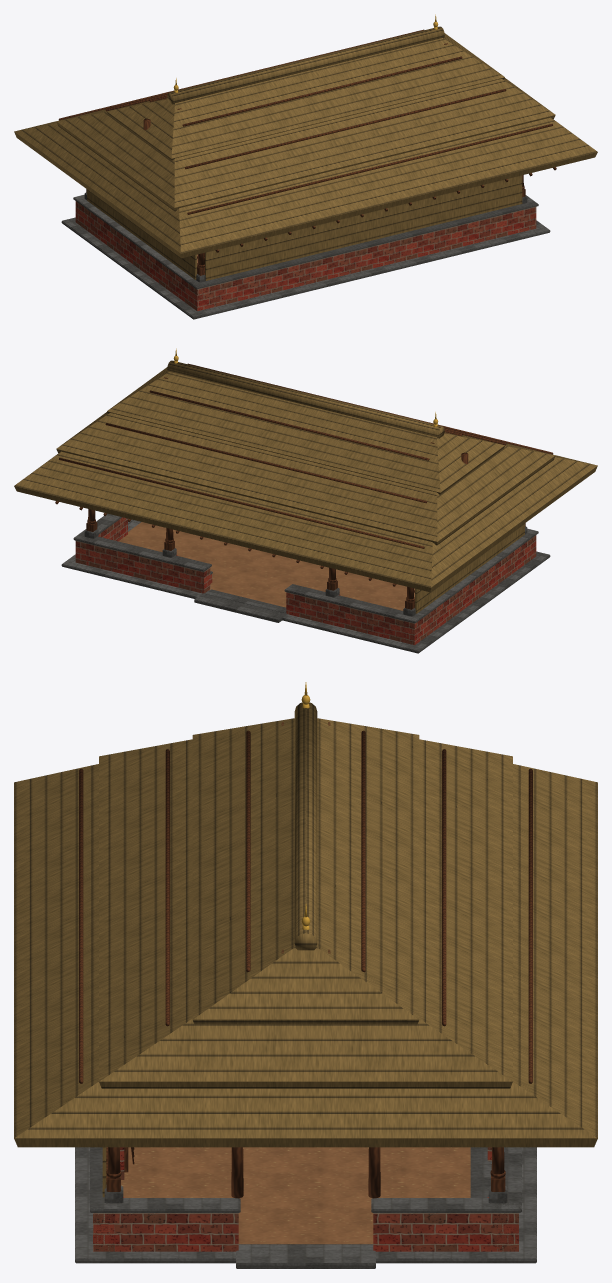
The model's file is kalari_arena.glb.
3 views of the same model, one above another, from view 1: azimuth 30°, elevation 25°; view 2: azimuth 150°, elevation 25°; view 3: azimuth 270°, elevation 25° (orthographic). The views are drawn at different scales.
Parts seen in each view (by area): view 1: kalari_arena; view 2: kalari_arena; view 3: kalari_arena.
Part boxes in pixels (<box>): kalari_arena: <box>14,14,597,319</box>; kalari_arena: <box>14,348,597,653</box>; kalari_arena: <box>14,682,597,1268</box>.
Size of the model in its own units: 16.23 by 6.77 by 11.25.
11 materials, 9 textured.
